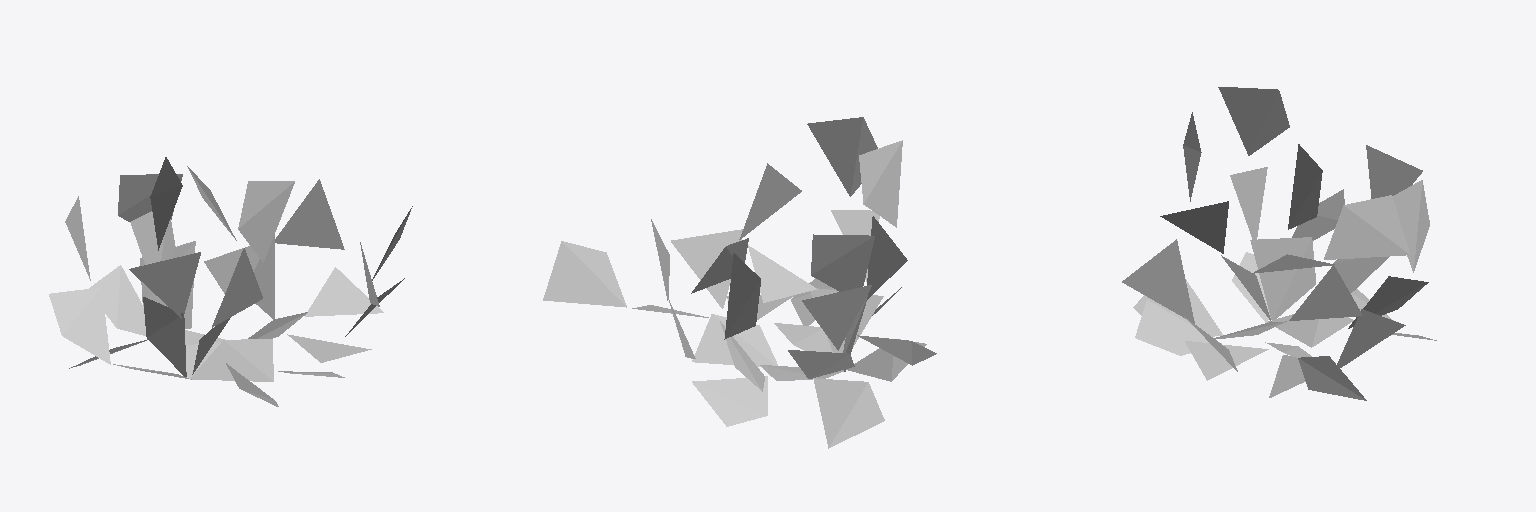
File: PricklyPearCactus_LOD3.obj
3 renders of one model, left to right at view 1: azimuth 30°, elevation 25°; view 2: azimuth 150°, elevation 25°; view 3: azimuth 270°, elevation 25°, orthographic.
Parts seen in each view (by area): view 1: PricklyPearCactus_LOD3; view 2: PricklyPearCactus_LOD3; view 3: PricklyPearCactus_LOD3.
Part boxes in pixels (bbox=[...]): PricklyPearCactus_LOD3: bbox=[49, 157, 412, 406]; PricklyPearCactus_LOD3: bbox=[543, 117, 936, 448]; PricklyPearCactus_LOD3: bbox=[1122, 87, 1436, 400].
Bounding box in the file's own units: 170 × 109 × 128.